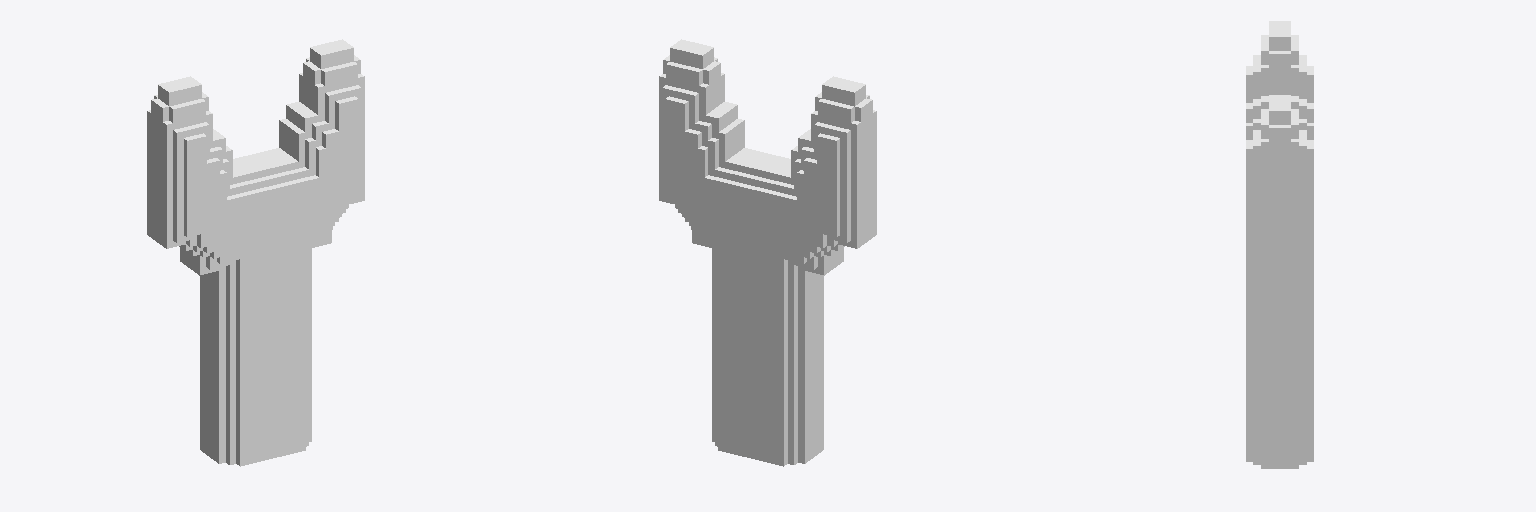
The model's file is Taser.obj.
3 renders of one model, left to right at view 1: azimuth 30°, elevation 25°; view 2: azimuth 150°, elevation 25°; view 3: azimuth 270°, elevation 25°, orthographic.
Visible parts, largest first — view 1: object 1; view 2: object 1; view 3: object 1.
Part boxes in pixels (x1,y1,x2,y2): object 1: (147,39,364,466); object 1: (659,39,876,466); object 1: (1246,21,1313,468).
Bounding box in the file's own units: 3 × 5.5 × 0.9.